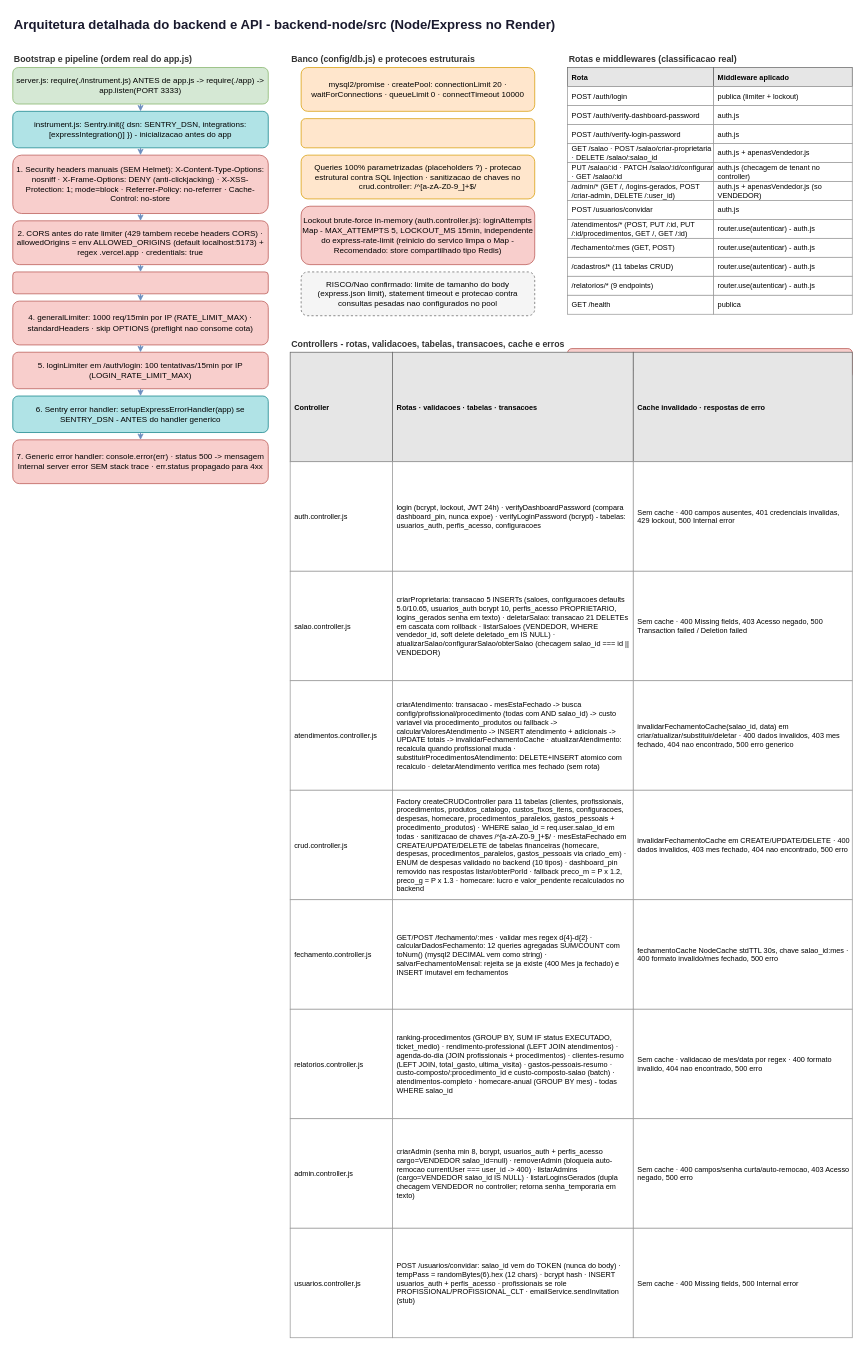
This 865x1351 diagram has some shape labels left out. The shapes that lost their labels are listed below. From the top down, each one's centre as x and y in pixels, then its label:
(417,133): TLS obrigatorio: ssl { minVersion: TLSv1.2, rejectUnauthorized: true }
(140,282): 3. express.json() - parse do body
